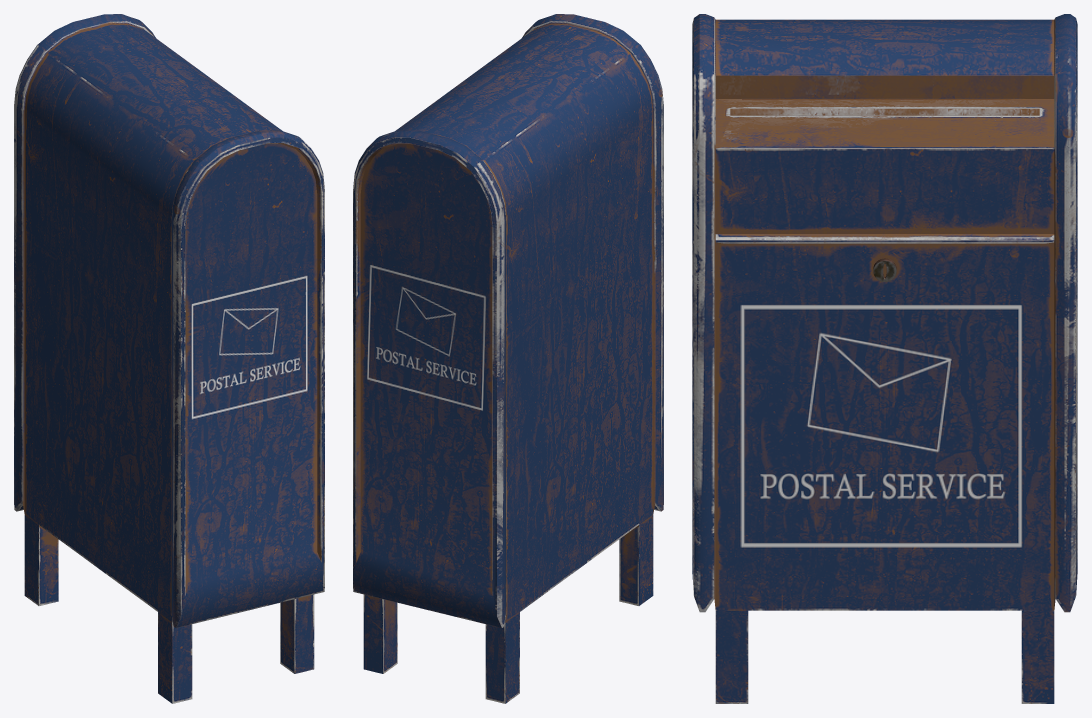
3 views of the same model, side by side, from view 1: azimuth 30°, elevation 25°; view 2: azimuth 150°, elevation 25°; view 3: azimuth 270°, elevation 25° (orthographic). The views are drawn at different scales.
Visible parts, largest first — view 1: Cube; view 2: Cube; view 3: Cube.
Boxes of the visible parts, x1=… form: Cube: x1=14, y1=14, x2=324, y2=703; Cube: x1=353, y1=14, x2=663, y2=703; Cube: x1=692, y1=14, x2=1077, y2=703.
Size of the model in its own units: 36.4 by 126 by 69.03.
Materials: 1 (1 with a texture image).
